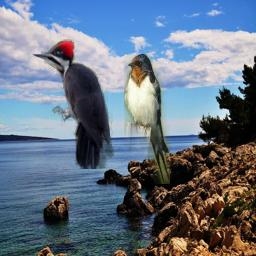Swallow: (124, 54, 170, 184)
Woodpecker: (31, 39, 114, 169)
